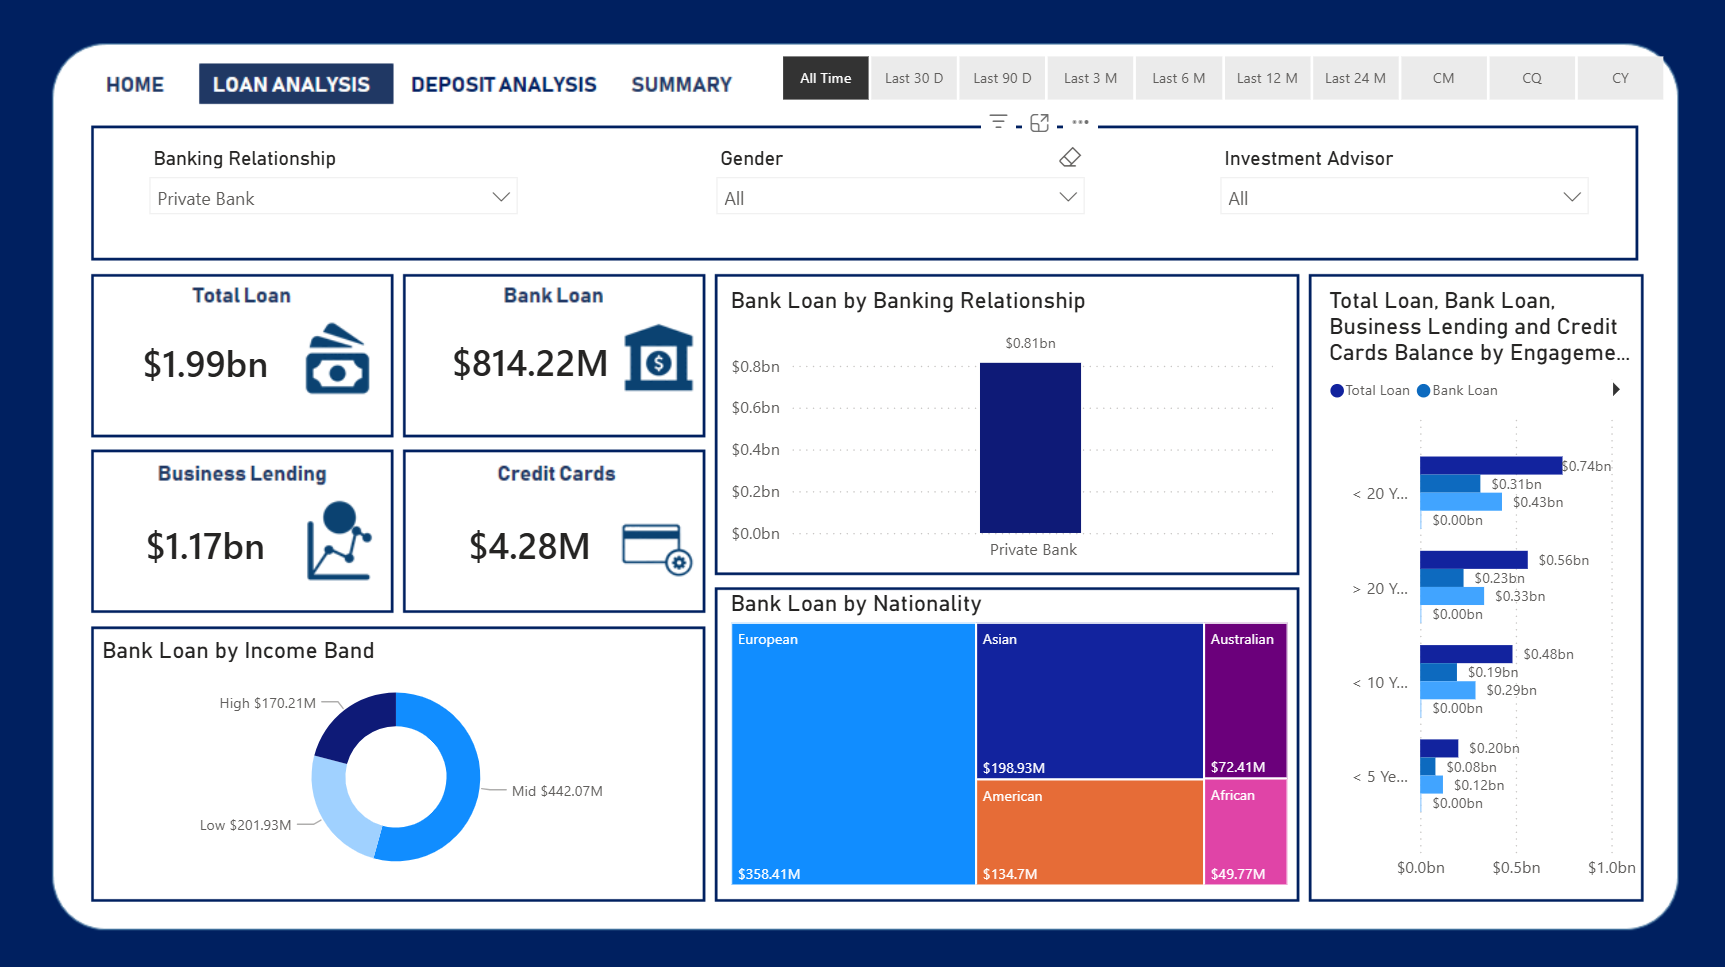

This screenshot's page, from the dashboard's own definition file:
{"tool":"powerbi","page":{"name":"Loan Analysis","canvas":[1280,720],"ordinal":1},"visuals":[{"type":"card","fields":{"Values":["DAX Measures.Total Loan"]},"box":[72.7,224,161.8,90.3],"z":0},{"type":"card","fields":{"Values":["DAX Measures.Bank Loan"]},"box":[307.2,224,172.4,89.1],"z":1000},{"type":"card","fields":{"Values":["DAX Measures.Credit Cards"]},"box":[307.2,360,171.2,89.1],"z":2000},{"type":"card","fields":{"Values":["DAX Measures.Business Lending"]},"box":[72.7,360,161.8,89.1],"z":3000},{"type":"slicer","fields":{"Values":["Banking Relationship.Banking Relationship"]},"box":[102.3,103.4,292.9,75.7],"z":4000},{"type":"slicer","fields":{"Values":["Gender.Gender"]},"box":[522.7,103.4,292.9,75.7],"z":5000},{"type":"slicer","fields":{"Values":["Investment Advisor.Investment Advisor"]},"box":[895,103.4,292.9,75.7],"z":6000},{"type":"donutChart","fields":{"Category":["Clients - Banking.Income Band"],"Y":["DAX Measures.Bank Loan"]},"box":[72.7,471.4,444.4,188.8],"z":7000},{"type":"clusteredBarChart","fields":{"Category":["Clients - Banking.Engagement Timeframe"],"Y":["DAX Measures.Total Loan","DAX Measures.Bank Loan","DAX Measures.Business Lending","DAX Measures.Credit Cards"]},"box":[981.5,212.2,236.9,447.9],"z":8000},{"type":"treemap","fields":{"Group":["Clients - Banking.Nationality"],"Values":["DAX Measures.Bank Loan"]},"box":[538.2,436.2,422.1,224],"z":9000},{"type":"lineClusteredColumnComboChart","fields":{"Y":["DAX Measures.Bank Loan"],"Category":["Banking Relationship.Banking Relationship"]},"box":[538.2,212.2,411.6,212.2],"z":10000},{"type":"slicer","fields":{"Values":["Period.Name"]},"box":[555.2,34.6,702.1,46.6],"z":11000},{"type":"actionButton","box":[72.8,44.2,58.5,31],"z":12000},{"type":"actionButton","box":[306.9,44.7,119.4,31],"z":13000},{"type":"actionButton","box":[471.6,44.2,83.6,31],"z":14000}]}

Visuals, with their boxes in screenshot pixels (x1, y1, x2, y2), scaled from the page's 1280x720 canvas onto the 1725x967 screenshot:
card - DAX Measures.Total Loan: x1=98 y1=301 x2=316 y2=422
card - DAX Measures.Bank Loan: x1=414 y1=301 x2=646 y2=421
card - DAX Measures.Credit Cards: x1=414 y1=483 x2=645 y2=603
card - DAX Measures.Business Lending: x1=98 y1=483 x2=316 y2=603
slicer - Banking Relationship.Banking Relationship: x1=138 y1=139 x2=533 y2=241
slicer - Gender.Gender: x1=704 y1=139 x2=1099 y2=241
slicer - Investment Advisor.Investment Advisor: x1=1206 y1=139 x2=1601 y2=241
donutChart - Clients - Banking.Income Band x DAX Measures.Bank Loan: x1=98 y1=633 x2=697 y2=887
clusteredBarChart - Clients - Banking.Engagement Timeframe x DAX Measures.Total Loan: x1=1323 y1=285 x2=1642 y2=887
treemap - Clients - Banking.Nationality x DAX Measures.Bank Loan: x1=725 y1=586 x2=1294 y2=887
lineClusteredColumnComboChart - DAX Measures.Bank Loan x Banking Relationship.Banking Relationship: x1=725 y1=285 x2=1280 y2=570
slicer - Period.Name: x1=748 y1=46 x2=1694 y2=109
actionButton: x1=98 y1=59 x2=177 y2=101
actionButton: x1=414 y1=60 x2=575 y2=102
actionButton: x1=636 y1=59 x2=748 y2=101
